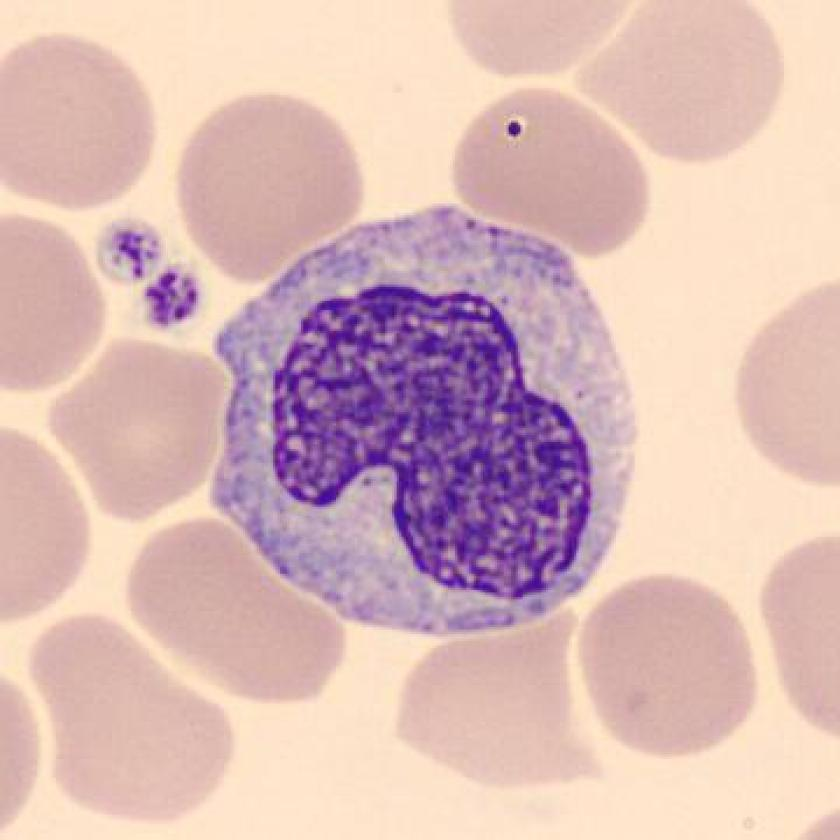monocyte: (195, 193, 664, 656)
